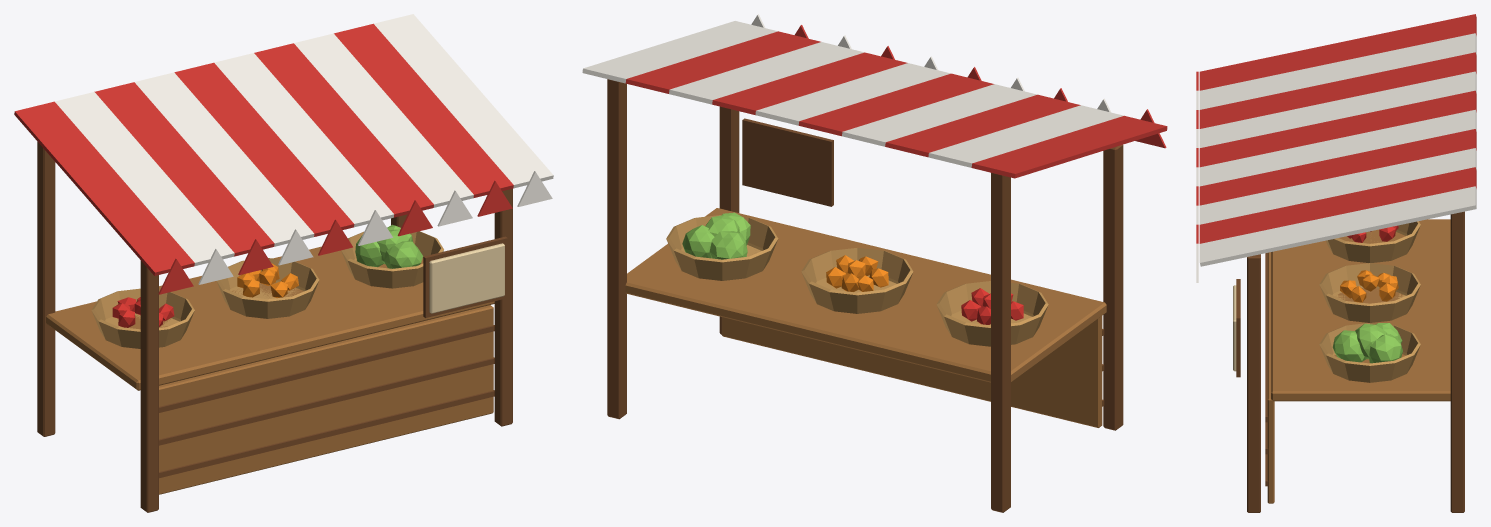
The model's file is vil_stall_market_v01.glb.
The picture shows the model from 3 angles, left to right: view 1: azimuth 30°, elevation 25°; view 2: azimuth 150°, elevation 25°; view 3: azimuth 270°, elevation 25°; orthographic projection. The views are drawn at different scales.
Parts seen in each view (by area): view 1: stall_market; view 2: stall_market; view 3: stall_market.
Part boxes in pixels (x1,y1,x2,y2): stall_market: [14, 14, 553, 512]; stall_market: [582, 14, 1167, 512]; stall_market: [1196, 14, 1476, 512].
Size of the model in its own units: 3.2 by 2.46 by 1.98.
